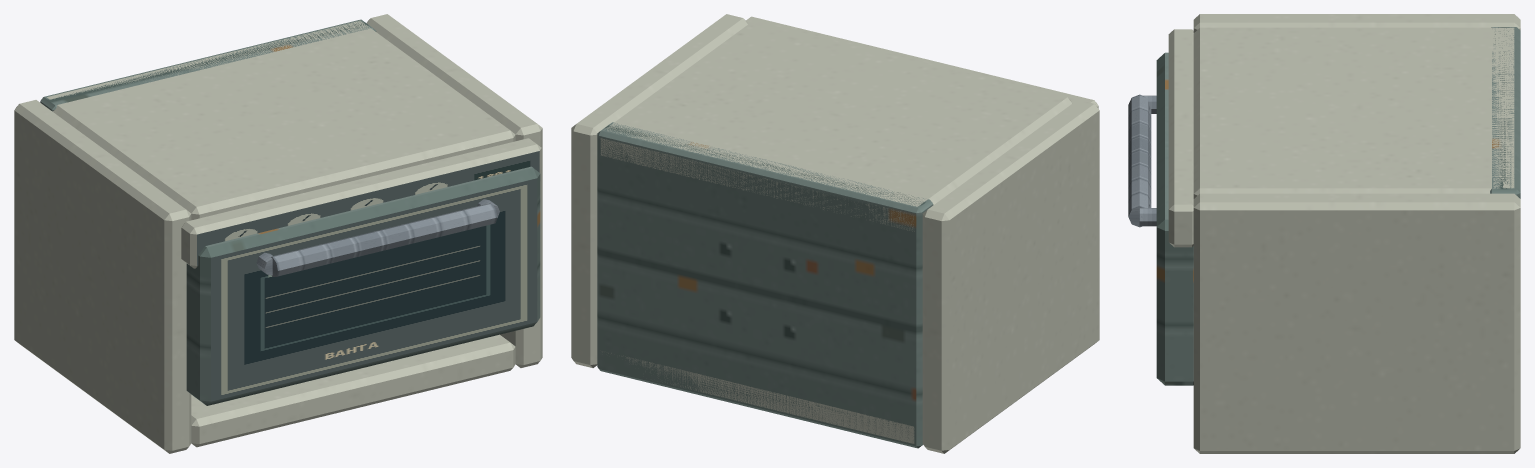
The model's file is MD_51_Microwave.fbx.
3 views of the same model, side by side, from view 1: azimuth 30°, elevation 25°; view 2: azimuth 150°, elevation 25°; view 3: azimuth 270°, elevation 25° (orthographic). The views are drawn at different scales.
Parts seen in each view (by area): view 1: MD_51_Microwave_oven_door, MD_51_Microwave_appliance_end.001, MD_51_Microwave_appliance_side, MD_51_Microwave_appliance_end, MD_51_Microwave_control_panel, MD_51_Microwave_appliance_side.001, MD_51_Microwave_oven_handle_grip, MD_51_Microwave_dark_cavity_back; view 2: MD_51_Microwave_dark_cavity_back, MD_51_Microwave_appliance_end.001, MD_51_Microwave_appliance_side, MD_51_Microwave_appliance_side.001, MD_51_Microwave_appliance_end, MD_51_Microwave_control_panel; view 3: MD_51_Microwave_appliance_side.001, MD_51_Microwave_appliance_end.001, MD_51_Microwave_oven_door, MD_51_Microwave_control_panel, MD_51_Microwave_appliance_side, MD_51_Microwave_dark_cavity_back, MD_51_Microwave_oven_handle_grip.
Boxes of the visible parts, left/top/right/bottom form: MD_51_Microwave_oven_door: left=186, top=166, right=540, bottom=405; MD_51_Microwave_appliance_end.001: left=47, top=20, right=515, bottom=220; MD_51_Microwave_appliance_side: left=14, top=100, right=191, bottom=453; MD_51_Microwave_appliance_end: left=191, top=334, right=515, bottom=447; MD_51_Microwave_control_panel: left=181, top=138, right=541, bottom=268; MD_51_Microwave_appliance_side.001: left=366, top=14, right=542, bottom=367; MD_51_Microwave_oven_handle_grip: left=271, top=203, right=497, bottom=276; MD_51_Microwave_dark_cavity_back: left=40, top=19, right=376, bottom=111; MD_51_Microwave_dark_cavity_back: left=597, top=122, right=933, bottom=448; MD_51_Microwave_appliance_end.001: left=600, top=20, right=1072, bottom=231; MD_51_Microwave_appliance_side: left=922, top=100, right=1099, bottom=453; MD_51_Microwave_appliance_side.001: left=571, top=14, right=747, bottom=367; MD_51_Microwave_appliance_end: left=602, top=351, right=914, bottom=443; MD_51_Microwave_control_panel: left=746, top=16, right=1098, bottom=108; MD_51_Microwave_appliance_side.001: left=1193, top=193, right=1520, bottom=453; MD_51_Microwave_appliance_end.001: left=1193, top=27, right=1514, bottom=198; MD_51_Microwave_oven_door: left=1156, top=52, right=1193, bottom=385; MD_51_Microwave_control_panel: left=1168, top=29, right=1193, bottom=247; MD_51_Microwave_appliance_side: left=1193, top=14, right=1520, bottom=32; MD_51_Microwave_dark_cavity_back: left=1490, top=27, right=1520, bottom=198; MD_51_Microwave_oven_handle_grip: left=1128, top=94, right=1151, bottom=227.
Size of the model in its own units: 0.56 by 0.34 by 0.48.
5 materials, 5 textured.
